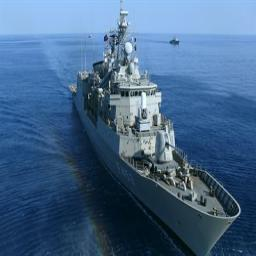Fragata: (68, 2, 242, 251)
